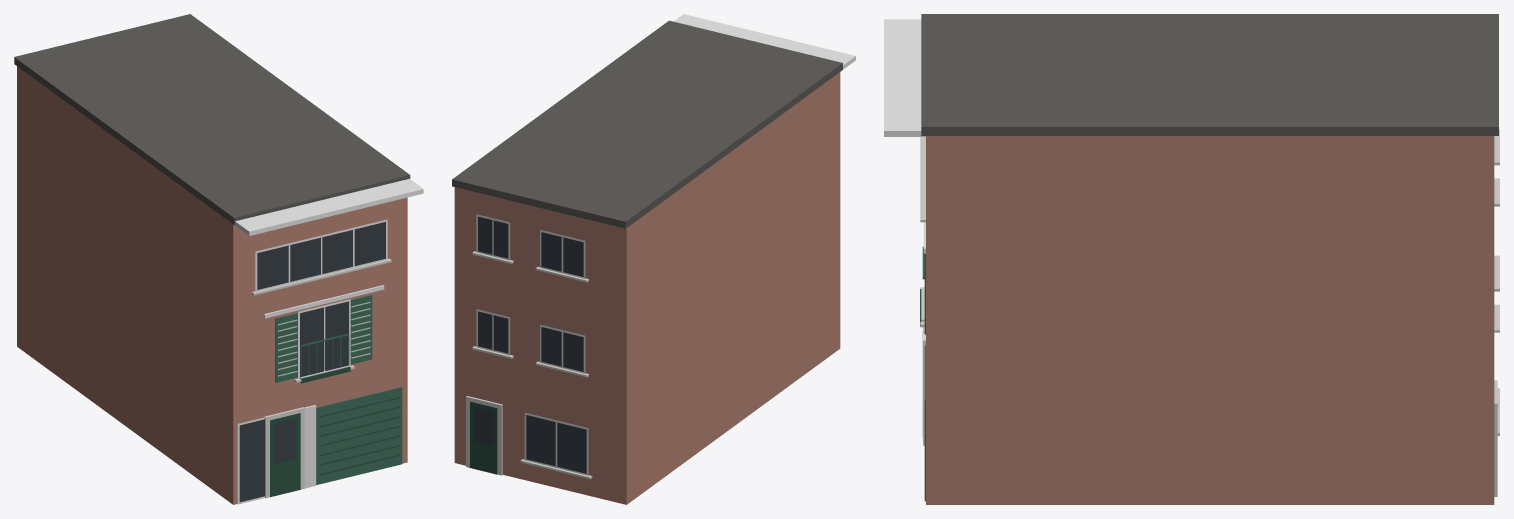
The model's file is nw-ao-garage__red__3__flat__long__solid.glb.
3 renders of one model, left to right at view 1: azimuth 30°, elevation 25°; view 2: azimuth 150°, elevation 25°; view 3: azimuth 270°, elevation 25°, orthographic. The views are drawn at different scales.
Parts seen in each view (by area): view 1: nw-ao-garage__red__3__flat__long__solid; view 2: nw-ao-garage__red__3__flat__long__solid; view 3: nw-ao-garage__red__3__flat__long__solid.
Part boxes in pixels (x1,y1,x2,y2): nw-ao-garage__red__3__flat__long__solid: [14, 14, 423, 504]; nw-ao-garage__red__3__flat__long__solid: [452, 14, 855, 504]; nw-ao-garage__red__3__flat__long__solid: [884, 14, 1499, 504].
Bounding box in the file's own units: 5.75 × 9 × 13.26.
